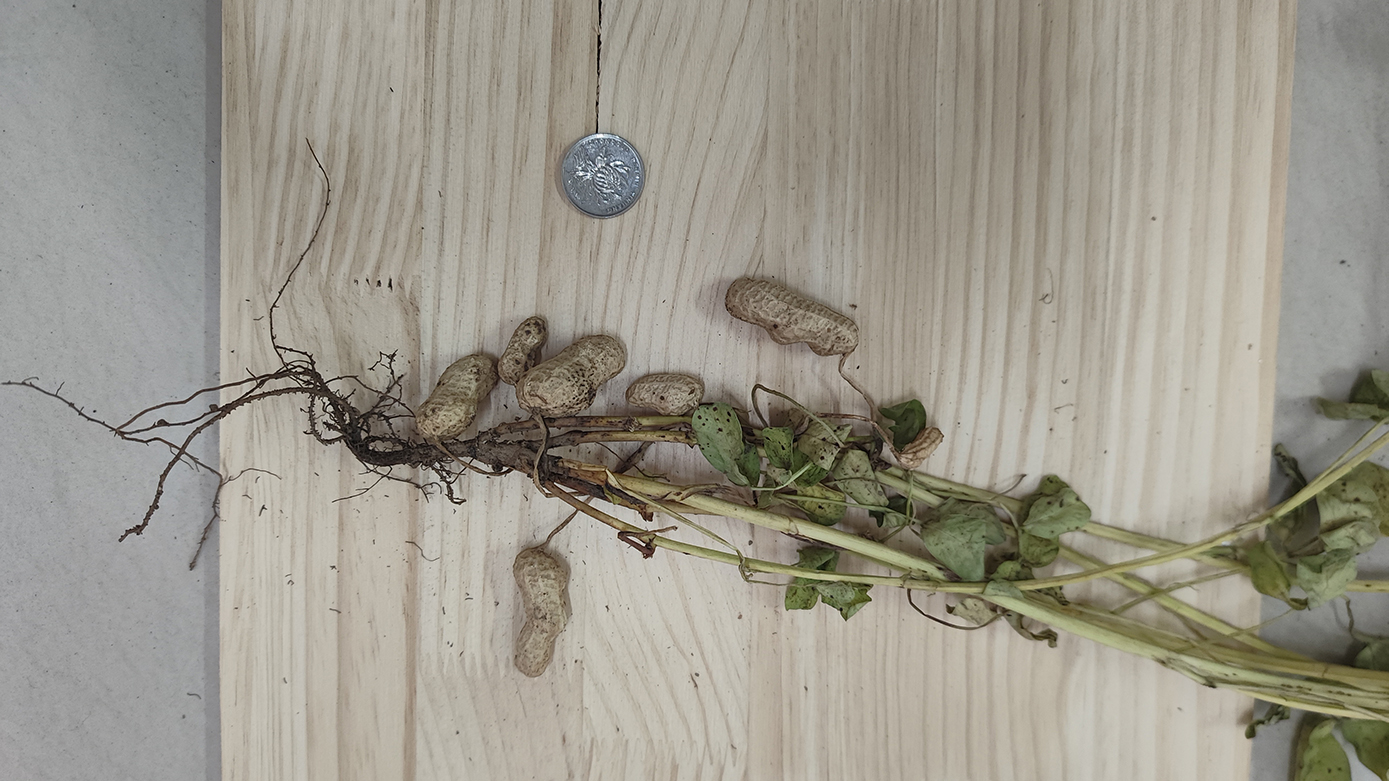h: (725, 278, 858, 357), (516, 335, 627, 419), (512, 548, 568, 679), (413, 353, 496, 439), (623, 371, 704, 417), (498, 317, 548, 385)
l: (900, 425, 945, 470)
